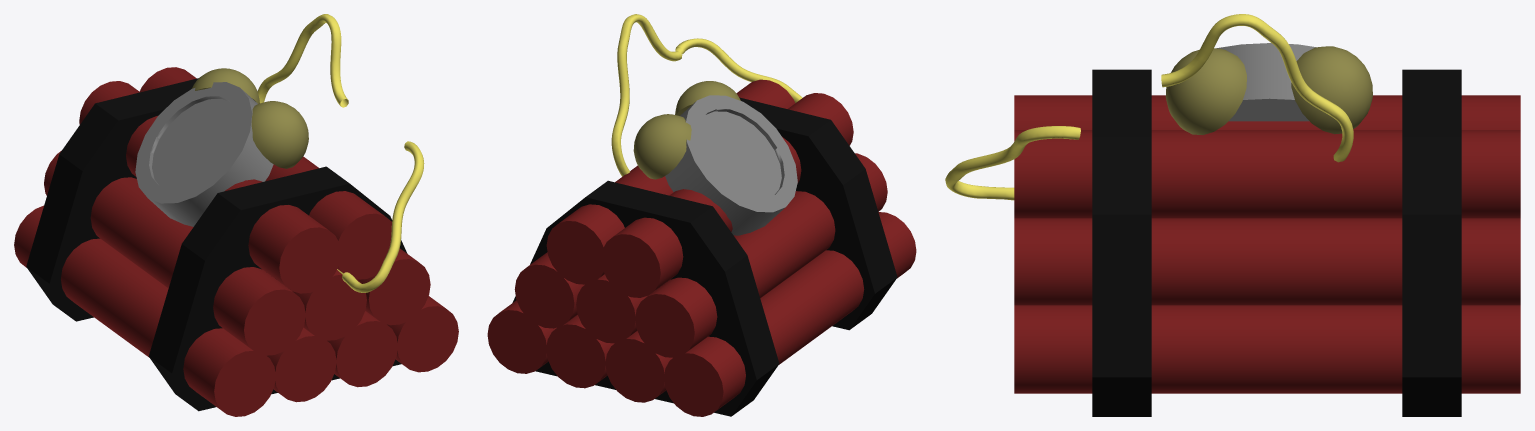
The model's file is 001BOMBCUT.fbx.
3 renders of one model, left to right at view 1: azimuth 30°, elevation 25°; view 2: azimuth 150°, elevation 25°; view 3: azimuth 270°, elevation 25°, orthographic. The views are drawn at different scales.
Parts seen in each view (by area): view 1: pCylinder14, pCube2, pCylinder25, pCylinder20, pCube1, pCylinder22, pCylinder21, pCylinder16, pCylinder17, pCylinder15, pCylinder18, pCylinder19 (+4 smaller); view 2: pCube1, pCylinder14, pCylinder25, pCylinder20, pCube2, pCylinder22, pCylinder21, pCylinder18, pCylinder16, pCylinder17, pCylinder15, pCylinder19 (+4 smaller); view 3: pCylinder17, pCylinder18, pCylinder21, pCube1, pCube2, pCylinder22, pSphere7, pSphere6, pCylinder25, wire, wire__1_.
Part boxes in pixels (x1,y1,x2,y2): pCylinder14: (14,205,275,416); pCube2: (148,166,407,411); pCylinder25: (135,82,273,226); pCylinder20: (44,150,305,355); pCube1: (26,78,198,321); pCylinder22: (79,81,339,293); pCylinder21: (139,67,391,279); pCylinder16: (327,311,397,387); pCylinder17: (387,296,458,372); pCylinder15: (267,327,336,402); pCylinder18: (358,248,430,325); pCylinder19: (292,270,366,340); pCube1: (512,180,779,416); pCylinder14: (664,212,916,416); pCylinder25: (665,95,797,235); pCylinder20: (635,153,887,357); pCube2: (739,97,897,330); pCylinder22: (601,93,853,297); pCylinder21: (546,79,794,284); pCylinder18: (514,252,584,328); pCylinder16: (546,315,614,388); pCylinder17: (487,300,556,373); pCylinder15: (605,331,672,402); pCylinder19: (576,274,647,343); pCylinder17: (1014,305,1520,393); pCylinder18: (1014,218,1520,305); pCylinder21: (1014,130,1520,218); pCube1: (1402,69,1461,416); pCube2: (1092,69,1151,416); pCylinder22: (1014,95,1520,129); pSphere7: (1165,48,1246,134); pSphere6: (1291,46,1372,134); pCylinder25: (1217,43,1316,121); wire: (1161,14,1353,162); wire__1_: (945,126,1080,200).
Bounding box in the file's own units: 8.08 × 9.07 × 12.14.
